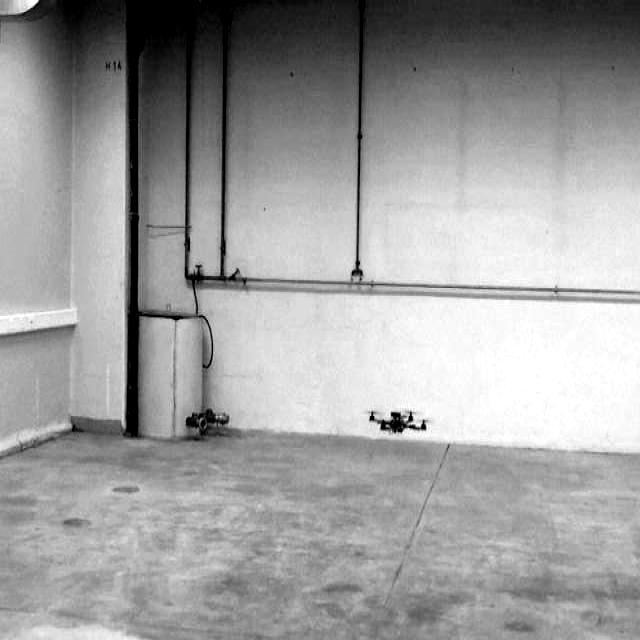drone: (360, 399, 434, 442)
